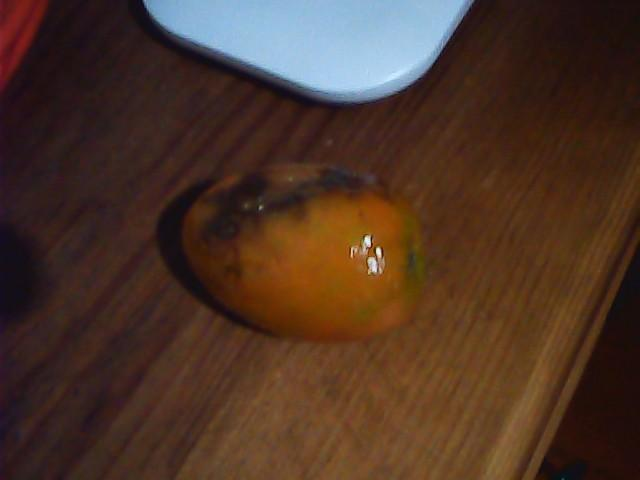defectuoso: (173, 163, 416, 343)
